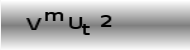2: (99, 14, 113, 28)
U: (68, 16, 82, 29)
V: (25, 16, 41, 31)
m: (43, 10, 63, 22)
t: (81, 23, 92, 37)
